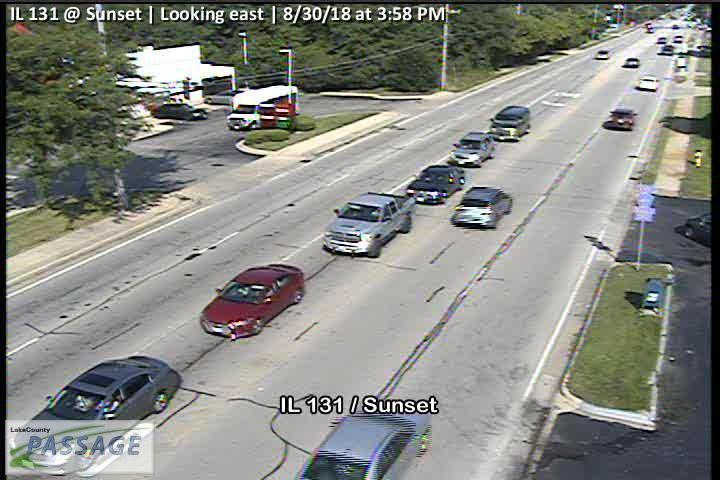SUV: (488, 103, 531, 142)
Sedan: (9, 355, 180, 480), (294, 402, 433, 480), (199, 263, 304, 338), (449, 186, 513, 230), (408, 164, 466, 205), (450, 131, 495, 168), (152, 102, 207, 119), (605, 106, 638, 129), (204, 88, 249, 104)
Truck: (320, 190, 416, 260), (225, 86, 296, 131)
